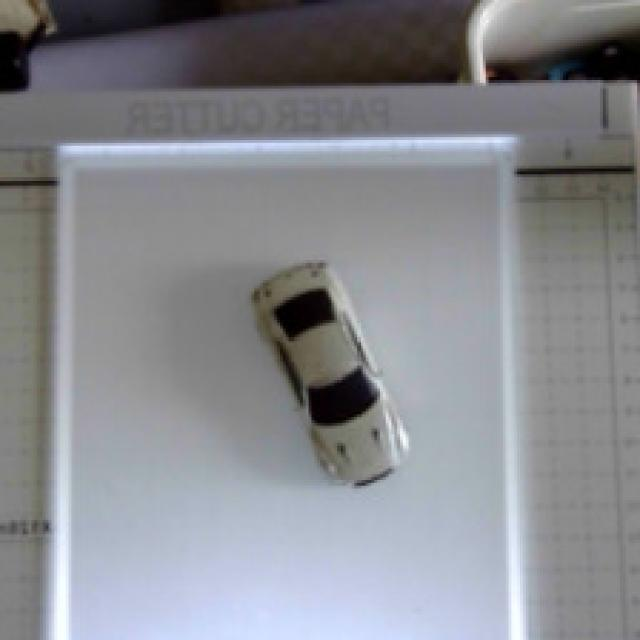Grey Car: (214, 223, 465, 524)
